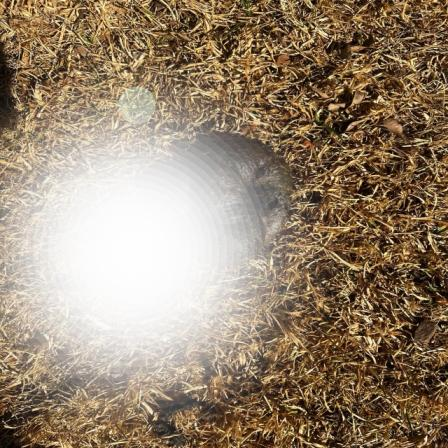dog-poop: (186, 123, 301, 259)
